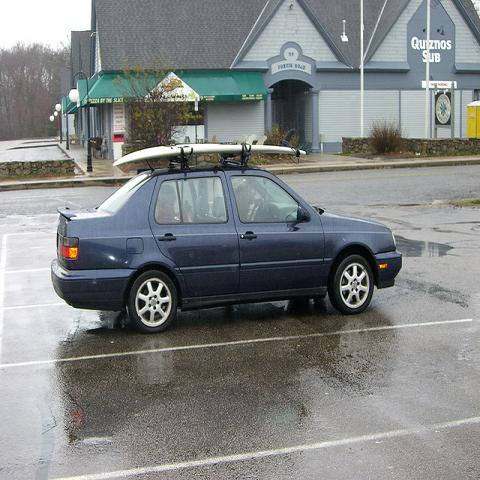car: (49, 154, 402, 328)
